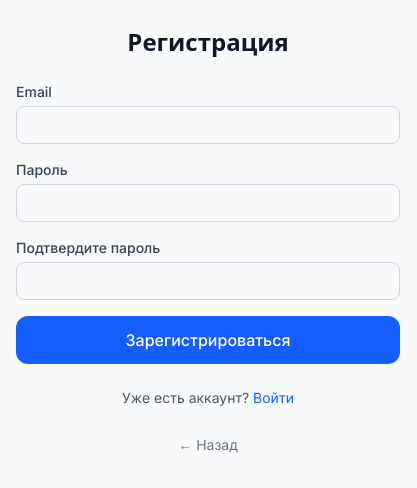
Test: SignupScreen › shows Russian error for email-already-in-use
Type "existing@test.com" into the field labelled "Email" at (208, 125), box [16,106,400,144]
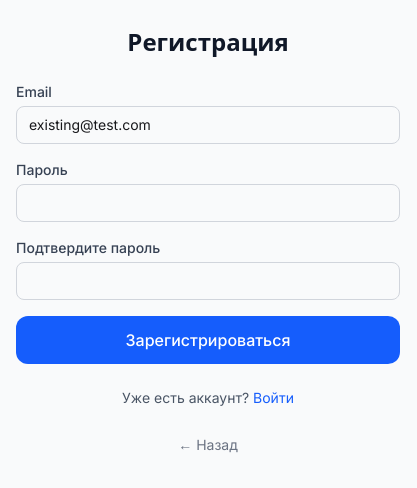
Type "pass123" into the password field labelled "Пароль" at (208, 203), box [16,184,400,222]
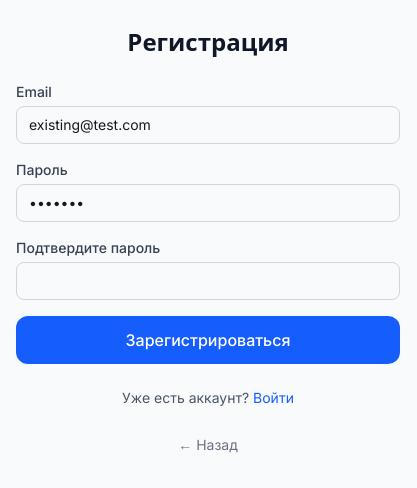
Type "pass123" into the password field labelled "Подтвердите пароль" at (208, 281), box [16,262,400,300]
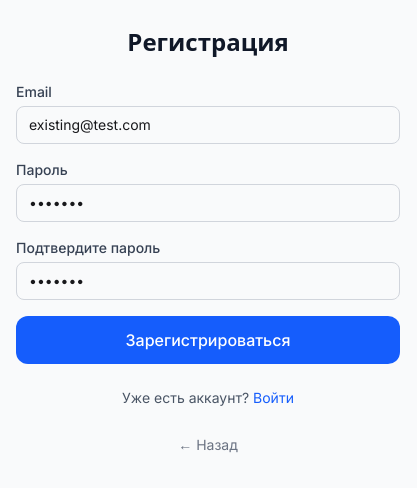
Click the button "Зарегистрироваться" at (208, 340), box [16,316,400,364]
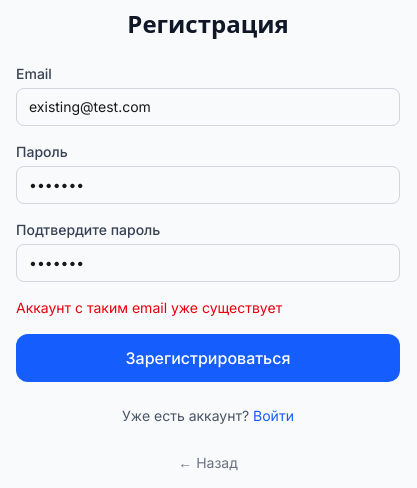
expect the text "Аккаунт с таким email уже существует" is shown: met, box [16,299,282,316]
